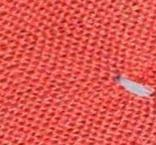hole: (112, 70, 156, 101)
